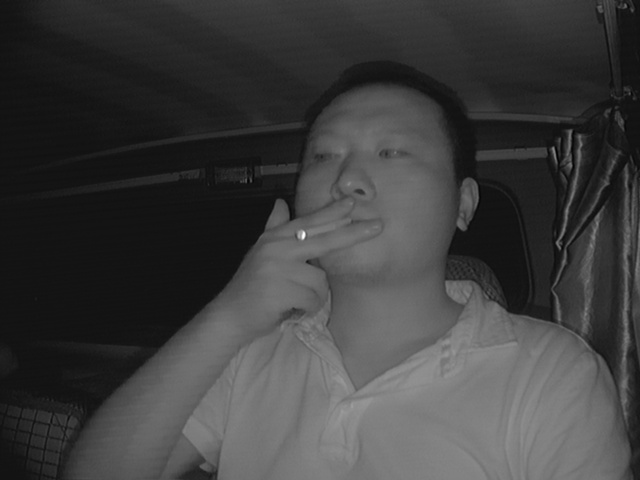hand: (250, 188, 388, 339)
